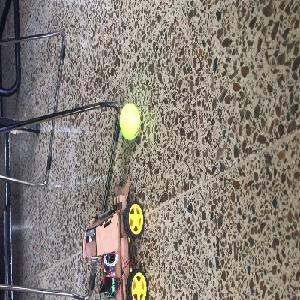Ball: (118, 104, 141, 141)
Robot: (82, 177, 148, 298)
